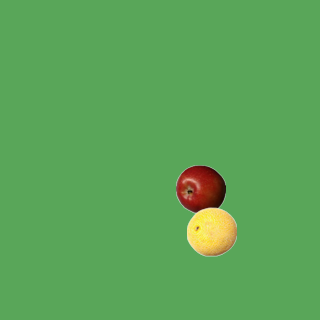Apple Braeburn: (175, 164, 225, 214)
Cantaloupe 1: (186, 206, 236, 256)
